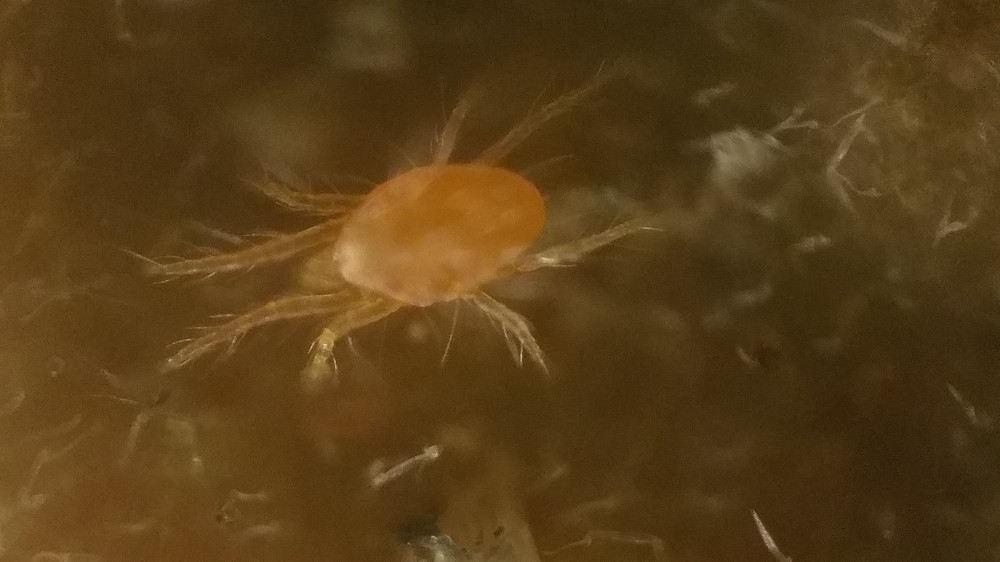Aracnido Rojo: (166, 70, 670, 417)
